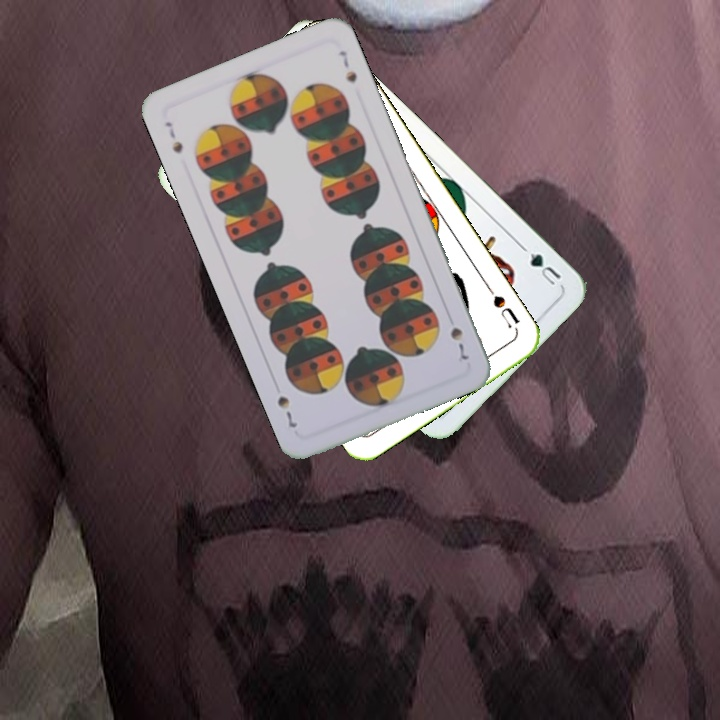GU: (525, 248, 564, 290)
S7: (446, 323, 472, 363), (160, 117, 186, 156)
SU: (482, 281, 522, 331)
